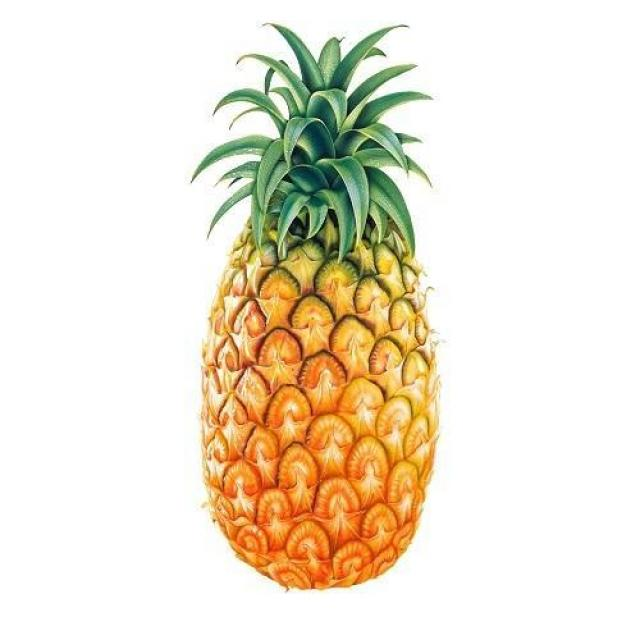pineapple: (196, 29, 444, 592)
